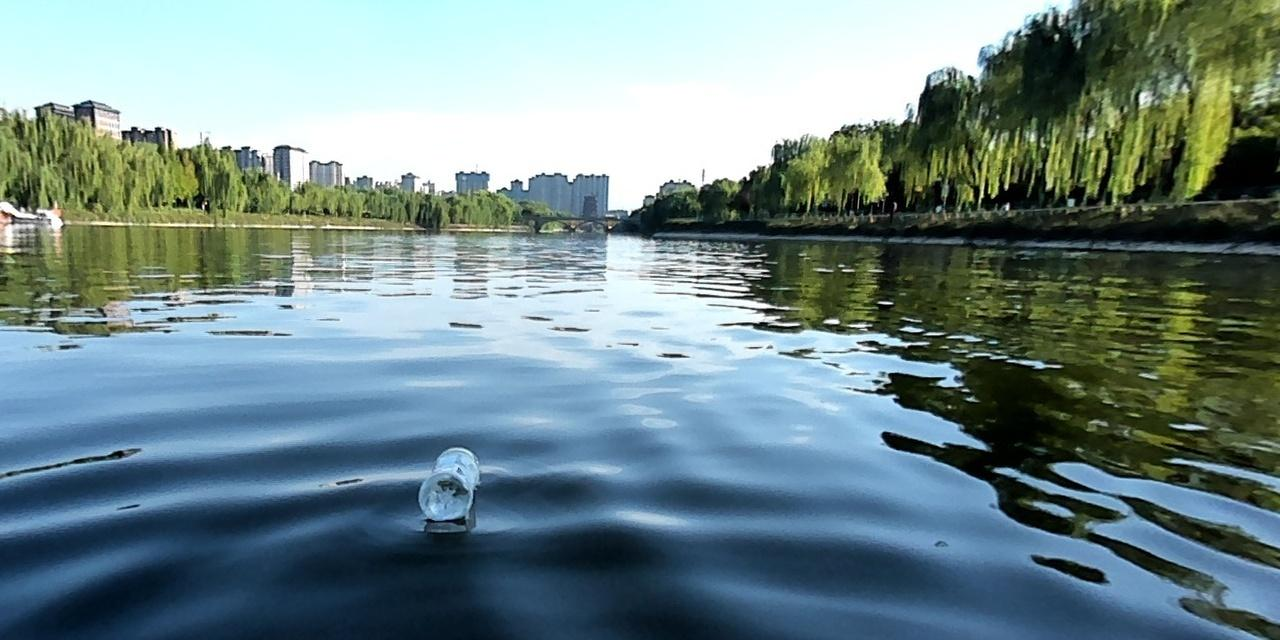bottle: (415, 442, 480, 524)
